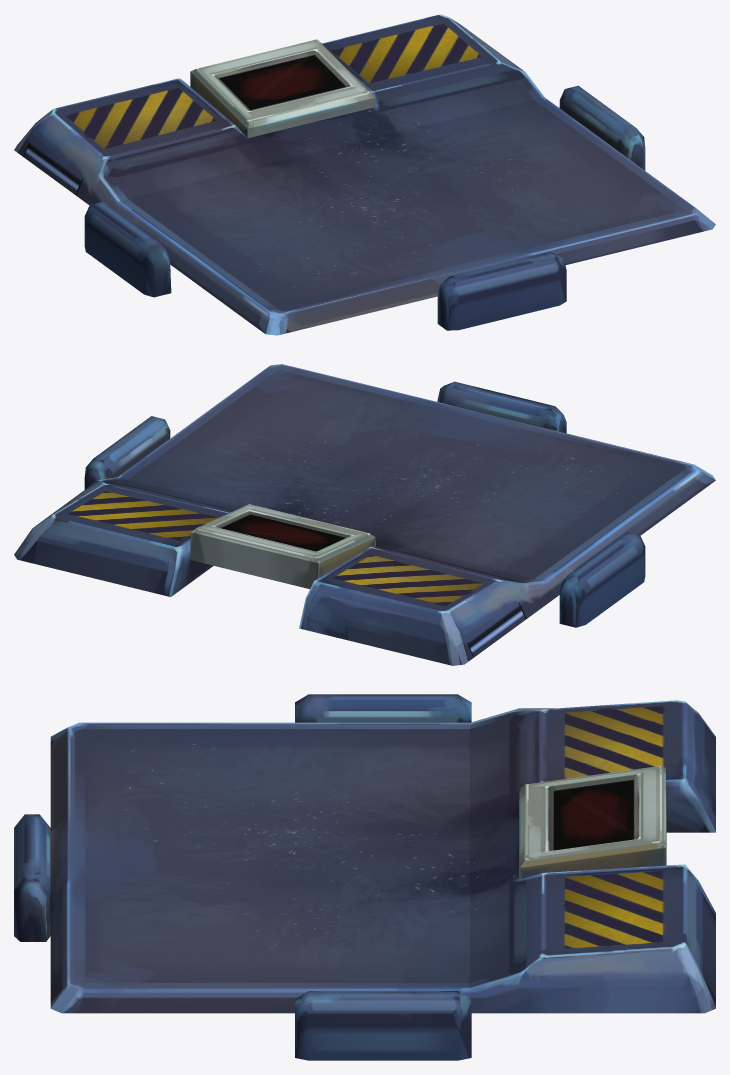
File: Component_Needy_Background.fbx
3 renders of one model, top to bottom at view 1: azimuth 30°, elevation 25°; view 2: azimuth 150°, elevation 25°; view 3: azimuth 270°, elevation 25°, orthographic. The views are drawn at different scales.
Visible parts, largest first — view 1: Background, Screen; view 2: Background, Screen; view 3: Background, Screen.
Boxes of the visible parts, x1,y1,x2,y2 form: Background: (14,14,715,335); Screen: (220,55,345,109); Background: (14,364,715,665); Screen: (221,514,345,551); Background: (14,694,715,1060); Screen: (553,780,633,850).
Size of the model in its own units: 200 by 30.2 by 190.
